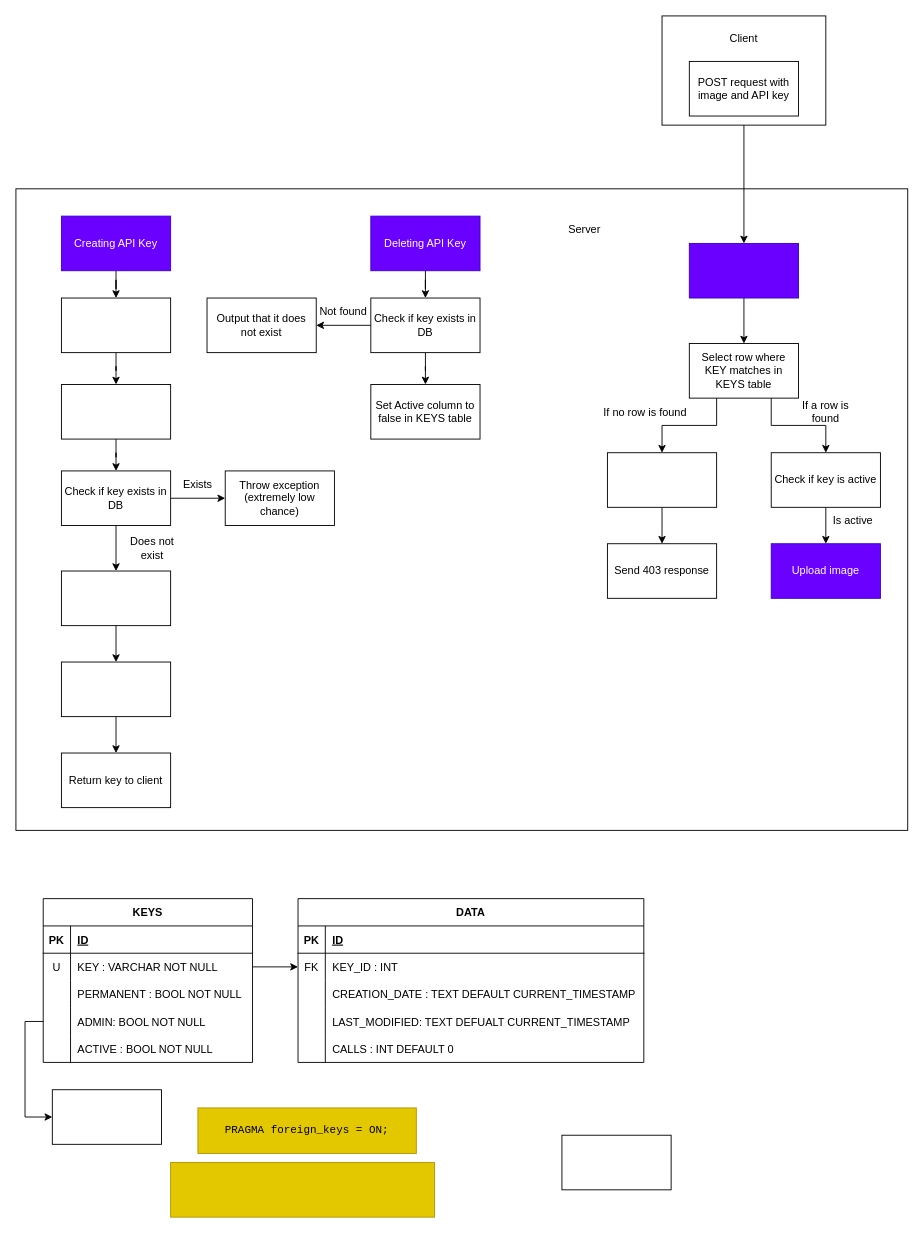
The diagram is 924 pixels wide and 1233 high, and some of its shapes have lost their labels. Here are the shapes that lost their labels. From the top down, the centre of each, then its label:
At (743,270): "Validating API KEY".
At (116,325): "Generate UUID".
At (116,411): "Parse into array of bytes, then into a string for the key".
At (662,479): "Key not valid".
At (116,598): "Insert in KEYS table".
At (116,689): "Insert in DATA table".
At (106,1116): "Admin access allows to use api endpoints that read/write tables".
At (302,1189): "https://www.sqlite.org/foreignkeys.html#fk_enable".
